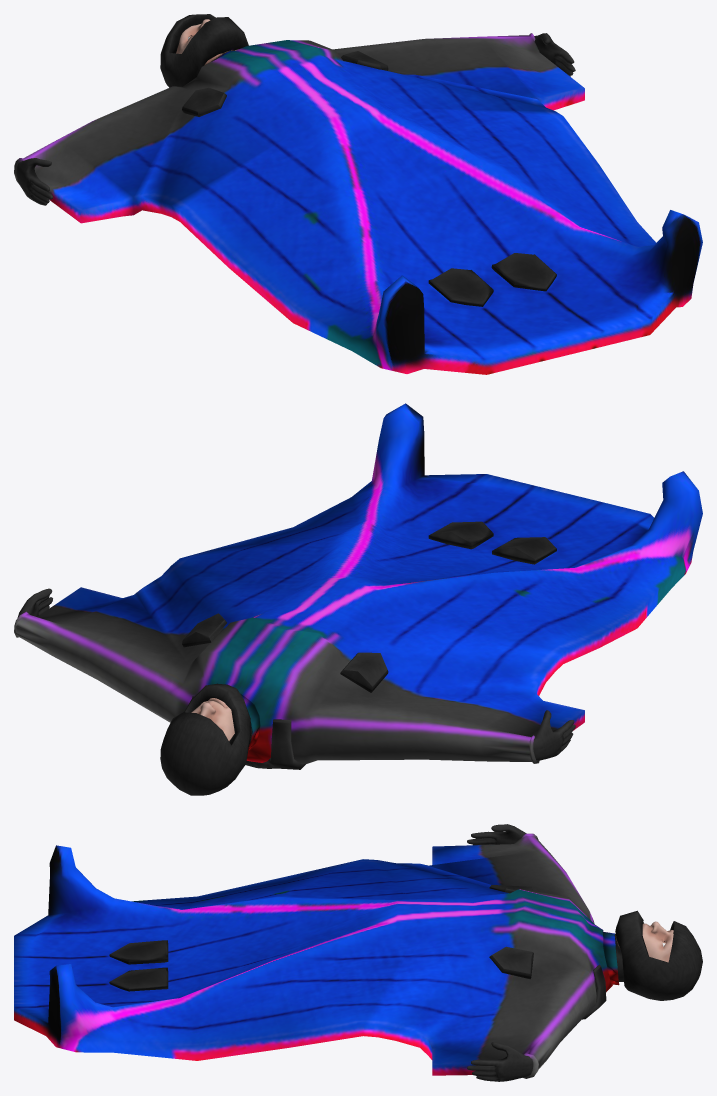
File: WSclean.glb
3 renders of one model, top to bottom at view 1: azimuth 30°, elevation 25°; view 2: azimuth 150°, elevation 25°; view 3: azimuth 270°, elevation 25°, orthographic. The views are drawn at different scales.
Parts seen in each view (by area): view 1: WS_V3.003; view 2: WS_V3.003; view 3: WS_V3.003.
Part boxes in pixels (box(x1,y1,x2,y2)): WS_V3.003: box(14, 14, 702, 374); WS_V3.003: box(14, 403, 702, 795); WS_V3.003: box(14, 824, 702, 1081).
Size of the model in its own units: 2.82 by 0.6066 by 3.55.
Materials: 1 (1 with a texture image).
